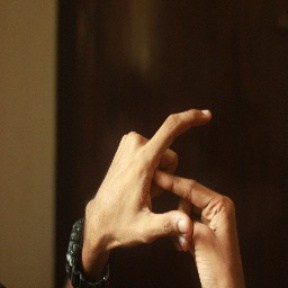E: (141, 99, 225, 250)
